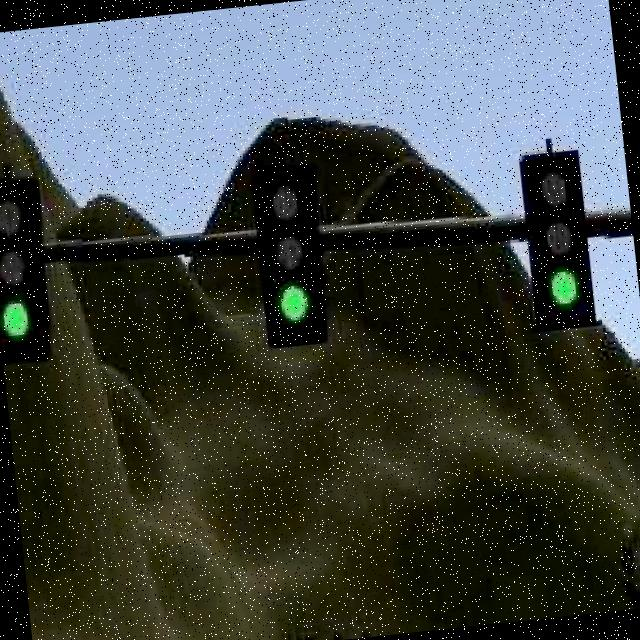Zielone swiatlo: (250, 160, 326, 348), (520, 147, 596, 329), (0, 178, 54, 362)
